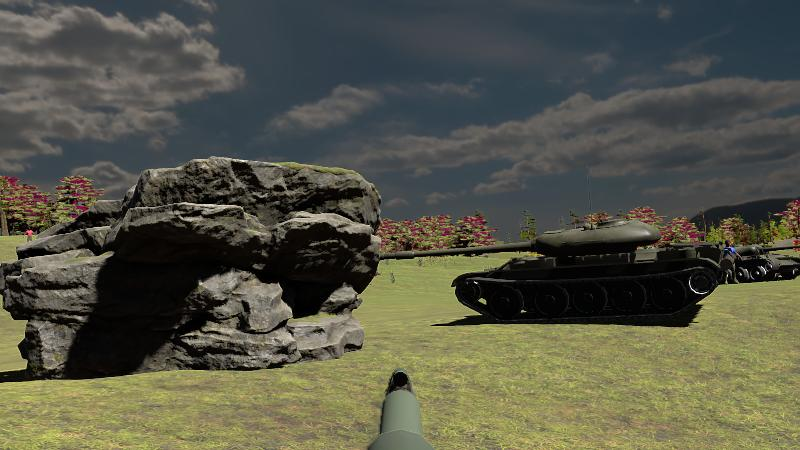Tank: (374, 219, 719, 322), (675, 243, 800, 283)
